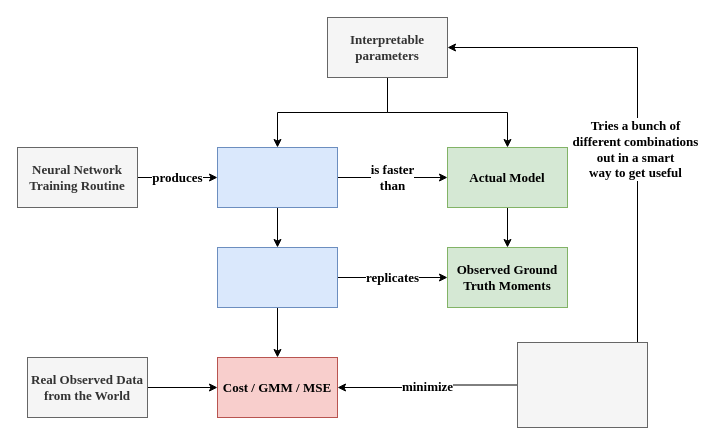
Image size: 715x445. Some labels were removed from this diagram. Each missing label, with the box of its shape:
Minimization Function optimization function parameter estimation: (516, 342, 648, 428)
Surrogate: (216, 146, 338, 208)
Surrogate Predictions: (216, 246, 338, 308)
